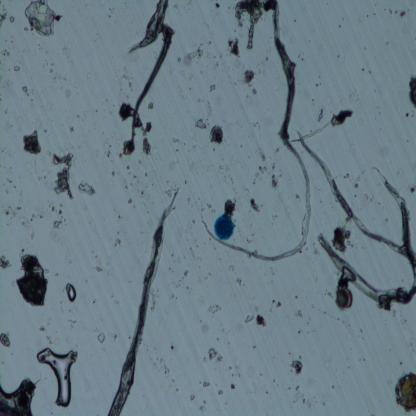Air bubble: (36, 348, 75, 408), (66, 283, 77, 304)
Background material: (15, 253, 50, 309), (236, 1, 274, 48), (49, 146, 75, 202), (24, 1, 63, 38), (0, 377, 37, 415), (149, 355, 180, 393), (0, 201, 45, 224), (182, 212, 202, 262), (394, 370, 416, 411), (20, 126, 42, 156), (332, 227, 352, 253), (330, 107, 353, 128), (218, 165, 236, 190), (49, 200, 67, 221), (123, 160, 139, 183), (149, 290, 163, 314), (45, 61, 61, 82), (118, 101, 134, 122), (227, 36, 241, 59), (254, 142, 269, 163), (209, 125, 224, 146), (204, 347, 222, 364), (79, 178, 96, 196), (288, 356, 304, 375), (162, 176, 174, 201), (408, 74, 416, 110), (222, 196, 236, 216), (121, 69, 133, 92), (198, 199, 216, 214), (177, 268, 190, 288), (63, 315, 80, 330), (0, 252, 13, 271), (249, 196, 262, 215), (228, 360, 241, 378), (38, 324, 51, 342), (316, 106, 327, 126), (0, 329, 11, 349), (123, 138, 135, 156), (254, 165, 269, 179), (387, 6, 406, 17), (176, 55, 195, 66), (187, 48, 205, 59), (272, 164, 280, 188), (243, 70, 255, 86), (292, 386, 303, 403), (142, 139, 152, 157), (0, 11, 9, 30), (195, 117, 208, 130), (2, 178, 16, 190), (256, 314, 268, 328), (170, 136, 183, 147), (207, 304, 221, 314), (165, 162, 178, 172), (245, 311, 254, 325), (0, 47, 11, 58), (96, 332, 106, 344), (169, 287, 177, 301), (144, 121, 153, 133), (63, 89, 72, 100), (136, 184, 145, 195), (108, 4, 115, 18), (104, 148, 112, 160), (113, 239, 122, 248), (407, 185, 416, 194), (52, 220, 62, 228), (92, 295, 99, 306), (296, 309, 304, 318), (236, 275, 242, 287), (264, 54, 272, 63), (298, 51, 305, 61), (274, 298, 280, 309), (188, 394, 196, 402), (208, 84, 216, 92), (94, 266, 102, 274), (200, 405, 207, 414), (147, 101, 154, 110), (21, 85, 28, 94), (110, 170, 115, 182), (230, 382, 236, 392), (35, 174, 43, 181), (126, 196, 133, 204), (203, 380, 210, 388), (14, 64, 21, 72), (186, 194, 192, 203), (217, 388, 223, 396), (252, 88, 258, 96), (69, 125, 75, 133), (361, 64, 366, 72), (330, 384, 336, 390), (214, 3, 220, 9), (171, 344, 176, 351), (184, 178, 188, 186), (397, 360, 403, 365), (297, 328, 302, 334), (252, 344, 257, 350), (338, 22, 342, 29), (264, 390, 269, 395), (315, 82, 320, 87), (404, 112, 410, 116), (294, 295, 298, 300), (11, 18, 15, 23), (366, 14, 370, 18)
Cellulose filter fibre: (204, 4, 312, 263), (297, 128, 416, 266), (102, 188, 174, 416), (309, 160, 416, 309), (131, 23, 176, 158), (131, 0, 170, 52), (292, 119, 333, 144)
Diatom: (336, 285, 352, 311)
